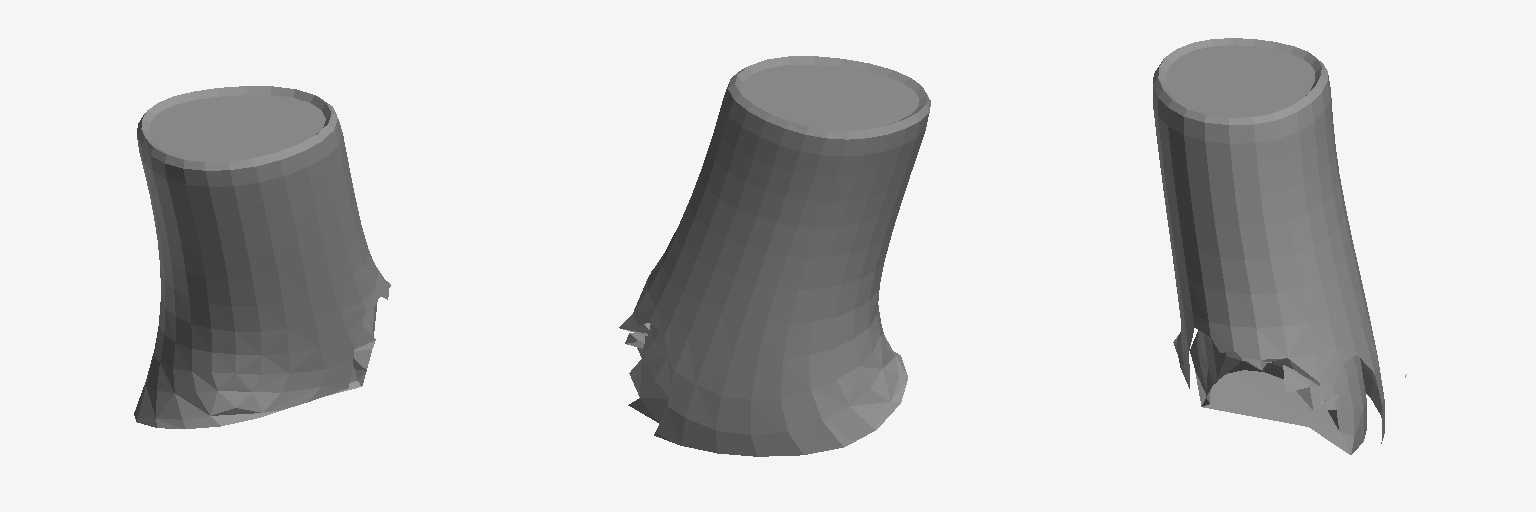
Rendered from Superior_venacava.obj.
The picture shows the model from 3 angles: view 1: azimuth 30°, elevation 25°; view 2: azimuth 150°, elevation 25°; view 3: azimuth 270°, elevation 25°; orthographic projection.
Parts seen in each view (by area): view 1: Human_Heart; view 2: Human_Heart; view 3: Human_Heart.
Part boxes in pixels (bbox=[...]): Human_Heart: bbox=[134, 86, 390, 428]; Human_Heart: bbox=[619, 56, 930, 456]; Human_Heart: bbox=[1153, 38, 1406, 454].
Bounding box in the file's own units: 3.3 × 3.91 × 2.81.